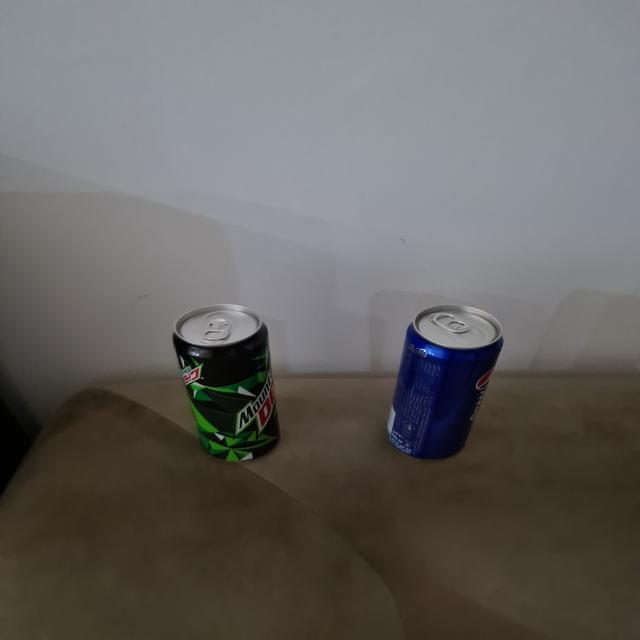non-organic waste: (170, 298, 290, 466), (386, 303, 506, 461)
